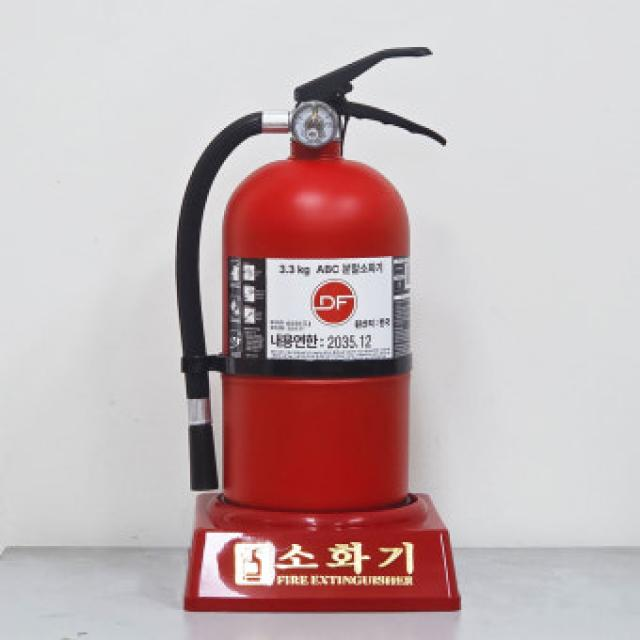pressure gauge: (292, 102, 338, 148)
